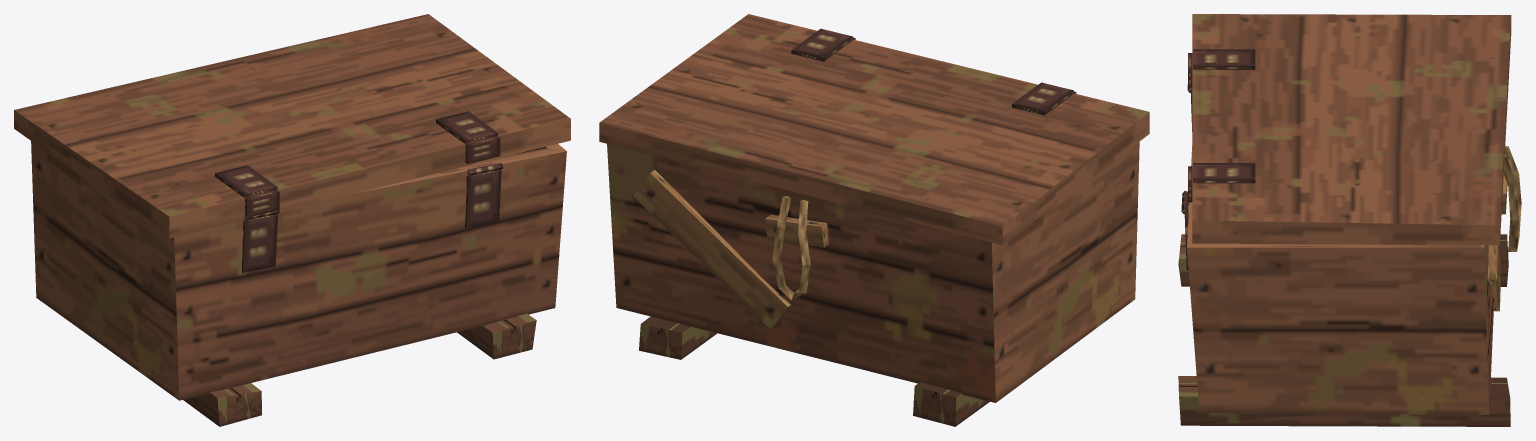
The model's file is SM_CH01_Beggar.fbx.
The picture shows the model from 3 angles, left to right: view 1: azimuth 30°, elevation 25°; view 2: azimuth 150°, elevation 25°; view 3: azimuth 270°, elevation 25°; orthographic projection. The views are drawn at different scales.
Parts seen in each view (by area): view 1: CH01_Body, CH01_Lid; view 2: CH01_Body, CH01_Lid; view 3: CH01_Lid, CH01_Body.
Part boxes in pixels (x1=…): CH01_Body: x1=31, y1=141, x2=566, y2=426; CH01_Lid: x1=14, y1=14, x2=570, y2=238; CH01_Body: x1=607, y1=142, x2=1139, y2=426; CH01_Lid: x1=599, y1=14, x2=1149, y2=245; CH01_Lid: x1=1188, y1=14, x2=1511, y2=245; CH01_Body: x1=1178, y1=85, x2=1521, y2=426.
Bounding box in the file's own units: 0.5878 × 0.3014 × 0.4054.
